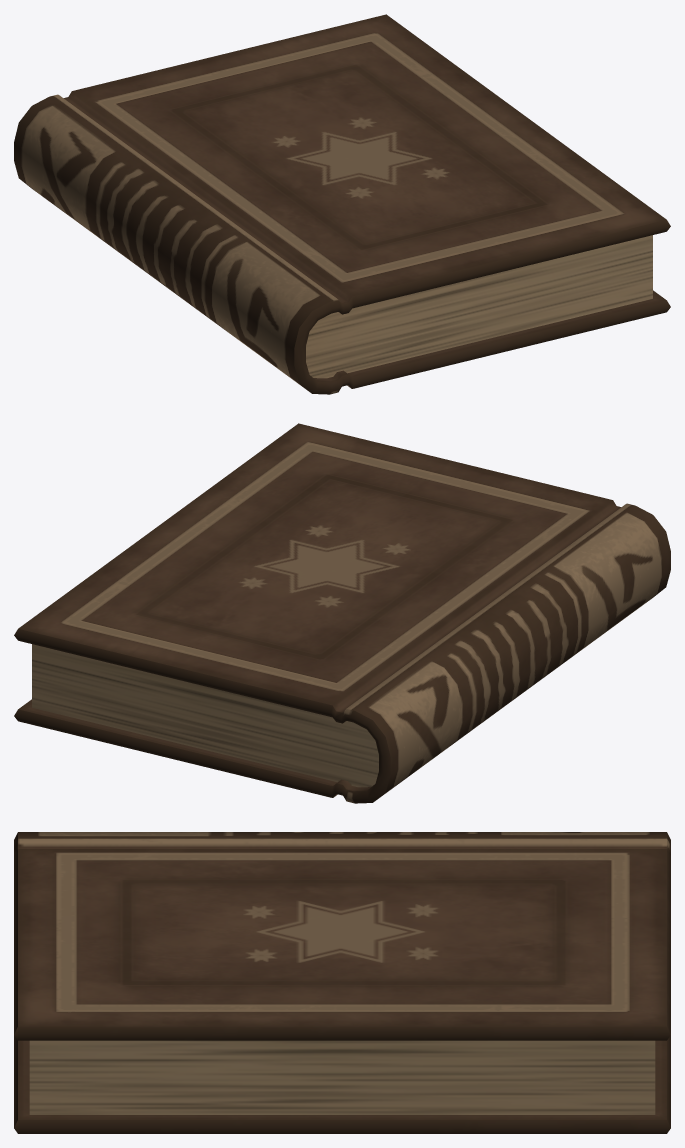
The model's file is SM_Book_01.fbx.
3 renders of one model, top to bottom at view 1: azimuth 30°, elevation 25°; view 2: azimuth 150°, elevation 25°; view 3: azimuth 270°, elevation 25°, orthographic. The views are drawn at different scales.
Parts seen in each view (by area): view 1: Book01_low1; view 2: Book01_low1; view 3: Book01_low1.
Part boxes in pixels (x1,y1,x2,y2): Book01_low1: (14,14,670,394); Book01_low1: (14,423,670,803); Book01_low1: (14,832,670,1133).
Bounding box in the file's own units: 30.15 × 7.12 × 39.56.
Materials: 1 (1 with a texture image).
